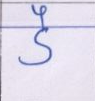ai_matra: (31, 4, 51, 26)
